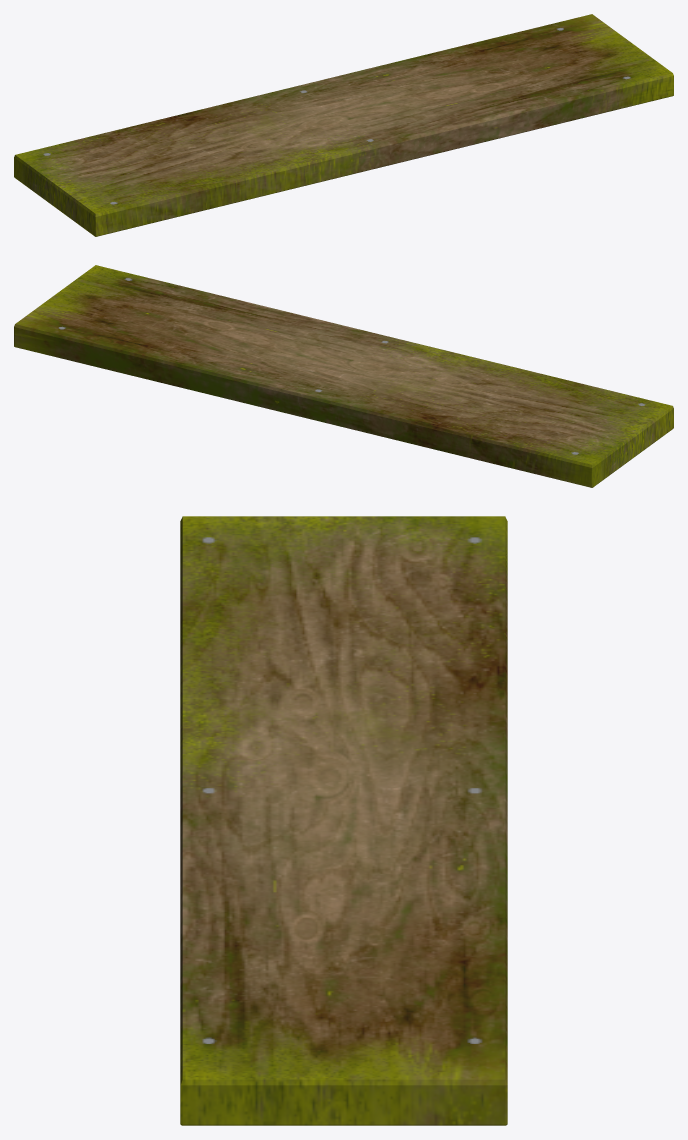
The model's file is PNW Pathway_Plank_E_No Grip.glb.
The picture shows the model from 3 angles, top to bottom: view 1: azimuth 30°, elevation 25°; view 2: azimuth 150°, elevation 25°; view 3: azimuth 270°, elevation 25°; orthographic projection. The views are drawn at different scales.
Parts seen in each view (by area): view 1: Plank E_No Grip; view 2: Plank E_No Grip; view 3: Plank E_No Grip.
Boxes of the visible parts, <box> form: Plank E_No Grip: <box>14,14,673,236</box>; Plank E_No Grip: <box>14,265,673,487</box>; Plank E_No Grip: <box>180,516,507,1125</box>.
Bounding box in the file's own units: 1.52 × 0.0577 × 0.372.
1 material, 1 textured.
